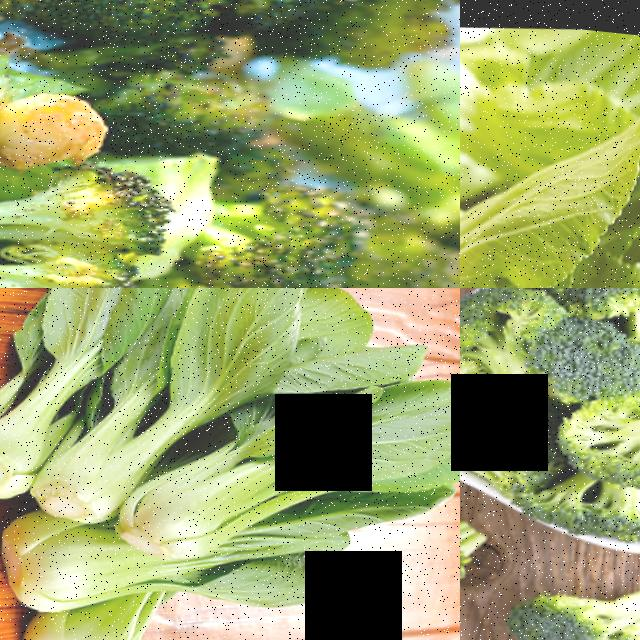bok choy: (93, 303, 321, 520), (154, 386, 434, 530), (460, 110, 640, 288), (460, 1, 640, 162), (0, 288, 140, 472), (3, 529, 213, 611), (32, 600, 207, 640)
broccoli: (193, 155, 460, 288), (0, 141, 206, 288), (220, 0, 460, 71), (516, 297, 640, 421), (522, 540, 640, 640), (6, 0, 221, 49), (460, 481, 515, 636), (571, 377, 640, 487)
